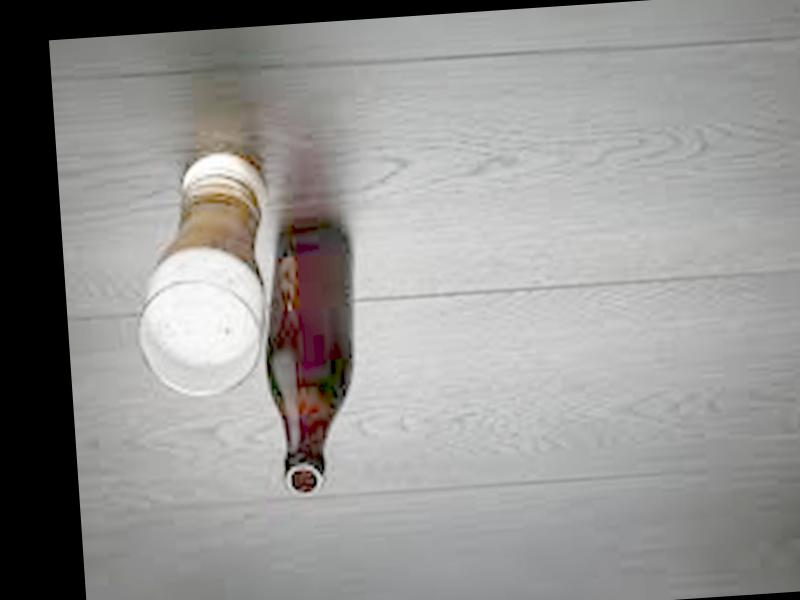Beer: (253, 206, 371, 501)
